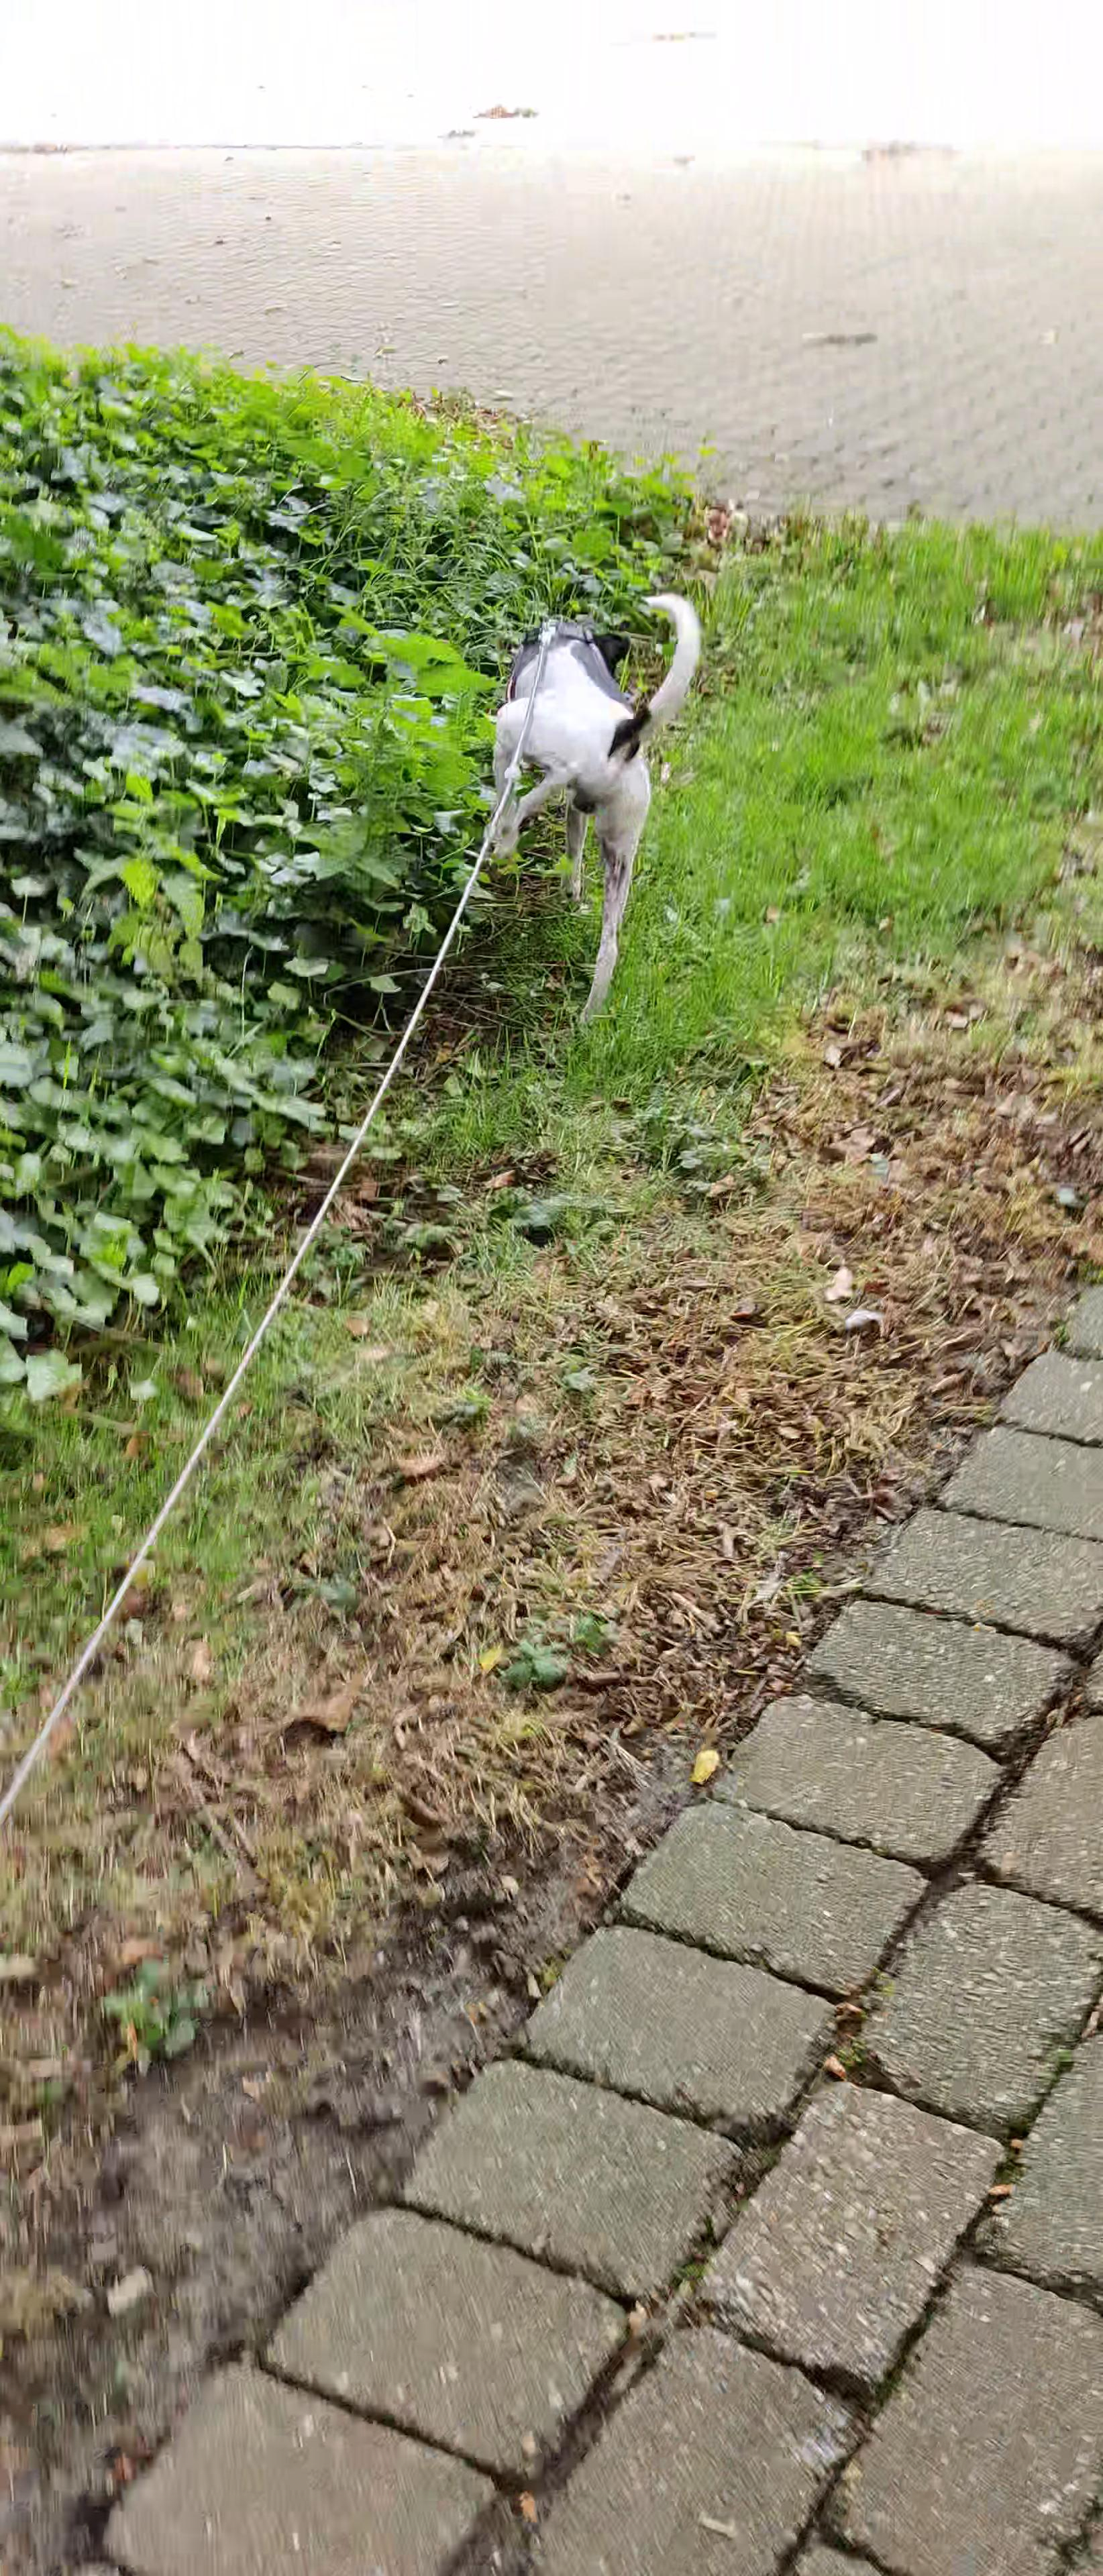Dog: (472, 585, 707, 1032)
